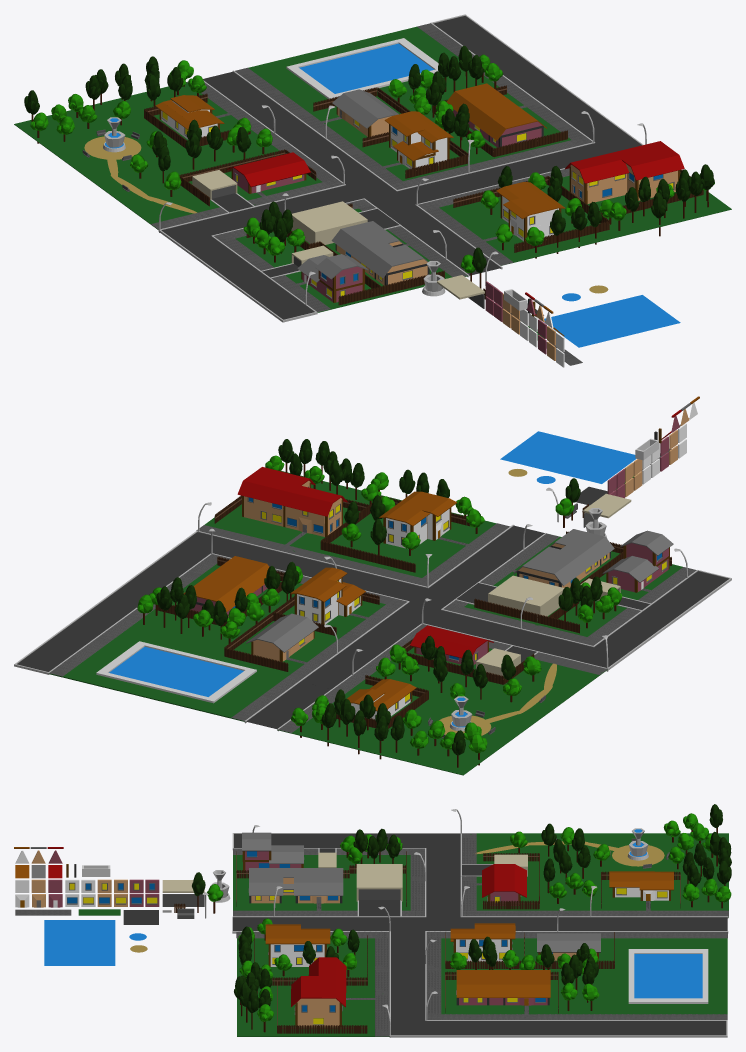
File: ciudad.glb
3 renders of one model, top to bottom at view 1: azimuth 30°, elevation 25°; view 2: azimuth 150°, elevation 25°; view 3: azimuth 270°, elevation 25°, orthographic. The views are drawn at different scales.
Parts seen in each view (by area): view 1: Object_2; view 2: Object_2; view 3: Object_2.
Part boxes in pixels (x1,y1,x2,y2): Object_2: [14, 14, 731, 367]; Object_2: [14, 396, 731, 775]; Object_2: [14, 804, 731, 1037].
Size of the model in its own units: 55.14 by 8.1 by 81.74.
Materials: 1 (1 with a texture image).
